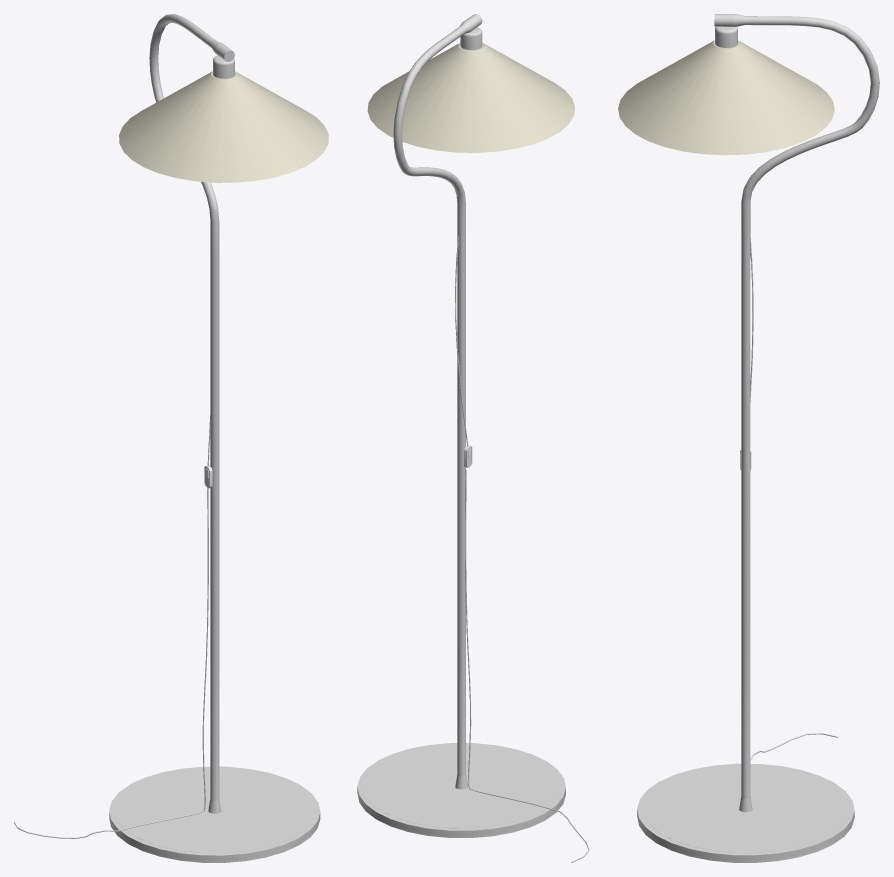
File: IKEA-Floor_Reading_Lamp-3D.obj
The picture shows the model from 3 angles, left to right: view 1: azimuth 30°, elevation 25°; view 2: azimuth 150°, elevation 25°; view 3: azimuth 270°, elevation 25°; orthographic projection. The views are drawn at different scales.
Parts seen in each view (by area): view 1: Layer_0; view 2: Layer_0; view 3: Layer_0.
Boxes of the visible parts, x1,y1,x2,y2 form: Layer_0: [14, 14, 328, 862]; Layer_0: [357, 14, 589, 862]; Layer_0: [618, 14, 879, 862].
Bounding box in the file's own units: 607 × 1793 × 530.
